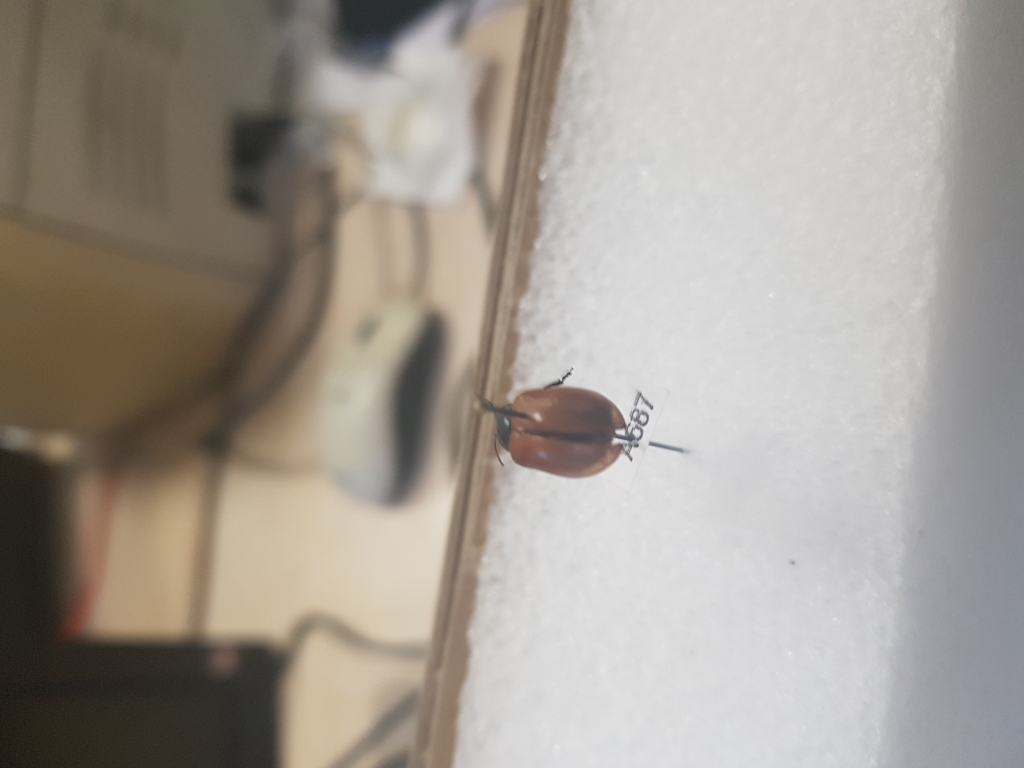Chrysomela_populi: (492, 359, 629, 482)
